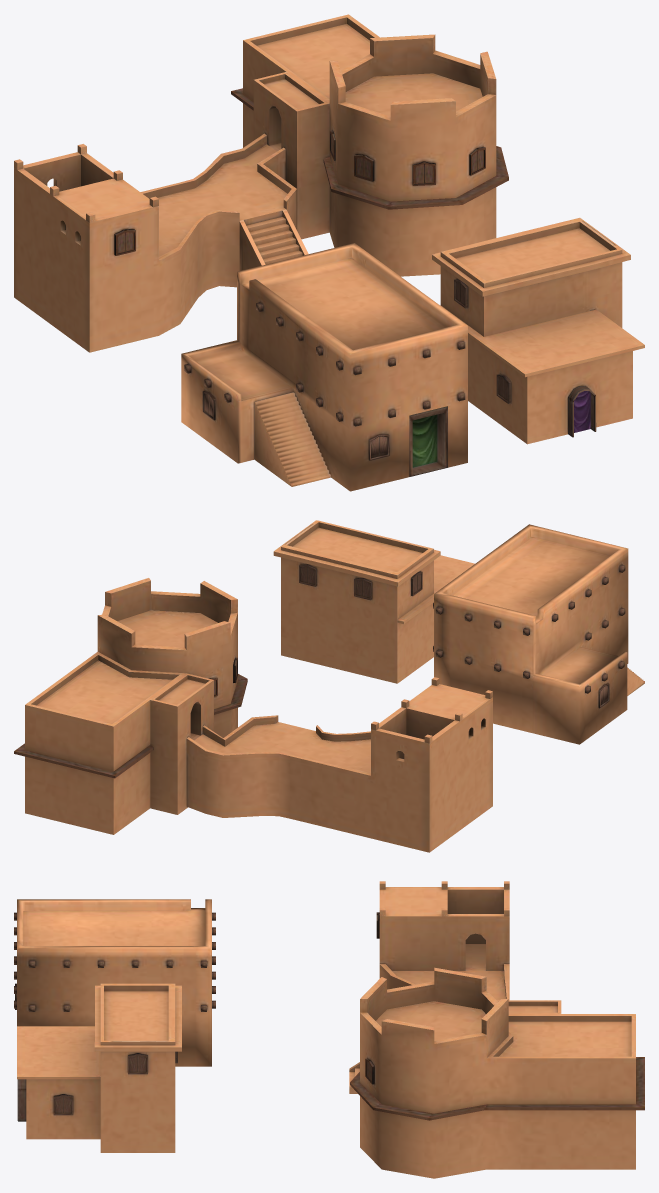
The model's file is kasbah.glb.
The picture shows the model from 3 angles, top to bottom: view 1: azimuth 30°, elevation 25°; view 2: azimuth 150°, elevation 25°; view 3: azimuth 270°, elevation 25°; orthographic projection. The views are drawn at different scales.
Parts seen in each view (by area): view 1: casa02_2, casa01_5, casa03_0; view 2: casa02_2, casa01_5, casa03_0; view 3: casa02_2, casa03_0, casa01_5.
Part boxes in pixels (bbox=[...]): casa02_2: bbox=[14, 14, 508, 352]; casa01_5: bbox=[181, 243, 467, 491]; casa03_0: bbox=[432, 217, 644, 444]; casa02_2: bbox=[14, 578, 492, 852]; casa01_5: bbox=[433, 524, 644, 744]; casa03_0: bbox=[273, 520, 474, 683]; casa02_2: bbox=[349, 881, 644, 1178]; casa03_0: bbox=[17, 983, 181, 1152]; casa01_5: bbox=[14, 899, 215, 1066].
Size of the model in its own units: 20.12 by 7.41 by 28.4.
2 materials, 2 textured.
